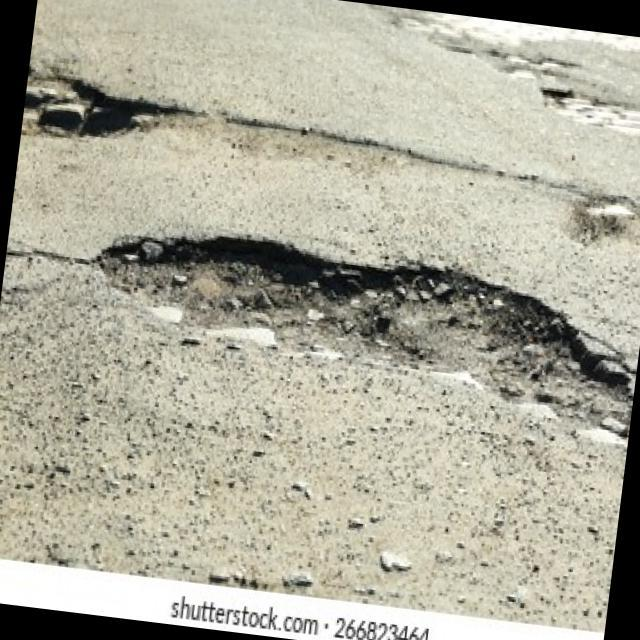Pothole: (80, 216, 640, 440), (20, 59, 158, 154), (536, 84, 640, 139), (561, 201, 628, 253), (501, 50, 582, 74), (506, 62, 540, 82), (394, 14, 426, 28), (634, 191, 640, 244)
